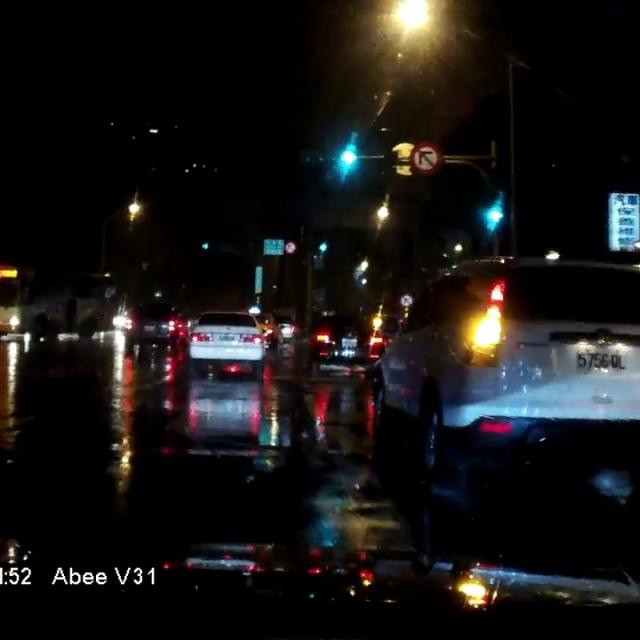Car: (376, 254, 639, 475), (187, 310, 265, 367), (298, 317, 382, 365), (120, 293, 182, 350), (246, 307, 284, 351), (278, 318, 302, 343)
